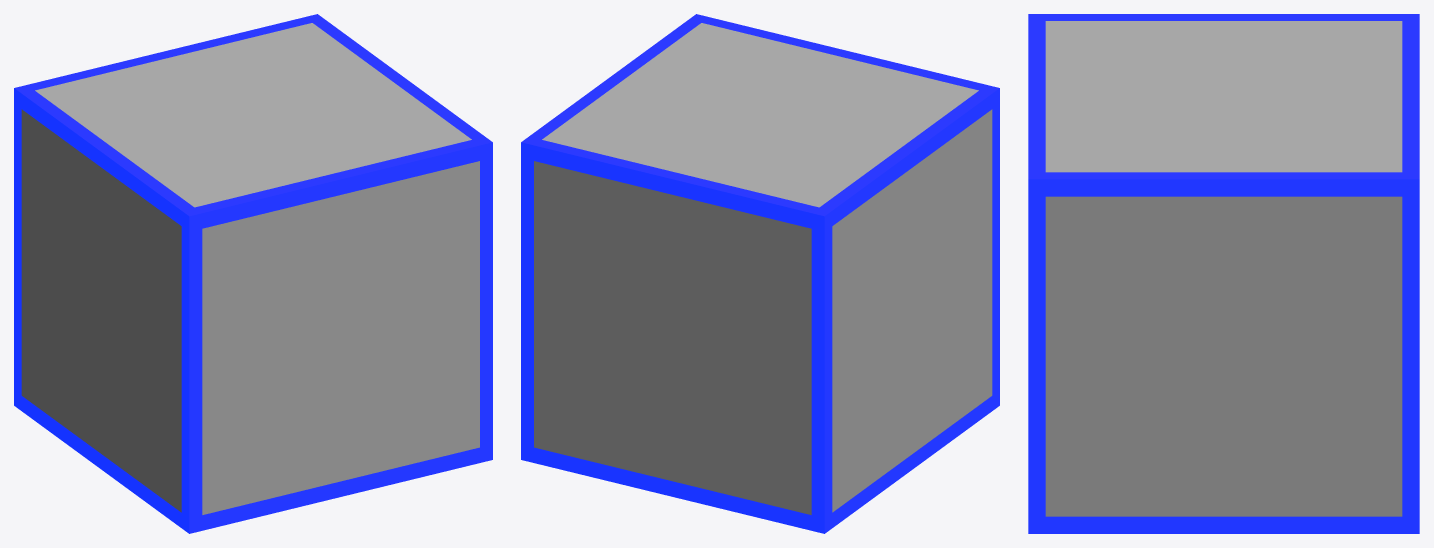
3 views of the same model, side by side, from view 1: azimuth 30°, elevation 25°; view 2: azimuth 150°, elevation 25°; view 3: azimuth 270°, elevation 25° (orthographic). The views are drawn at different scales.
Visible parts, largest first — view 1: Cube; view 2: Cube; view 3: Cube.
Part boxes in pixels (box(x1,y1,x2,y2)): Cube: box(14, 14, 492, 533); Cube: box(521, 14, 999, 533); Cube: box(1028, 14, 1419, 533).
Size of the model in its own units: 200 by 200 by 200.
